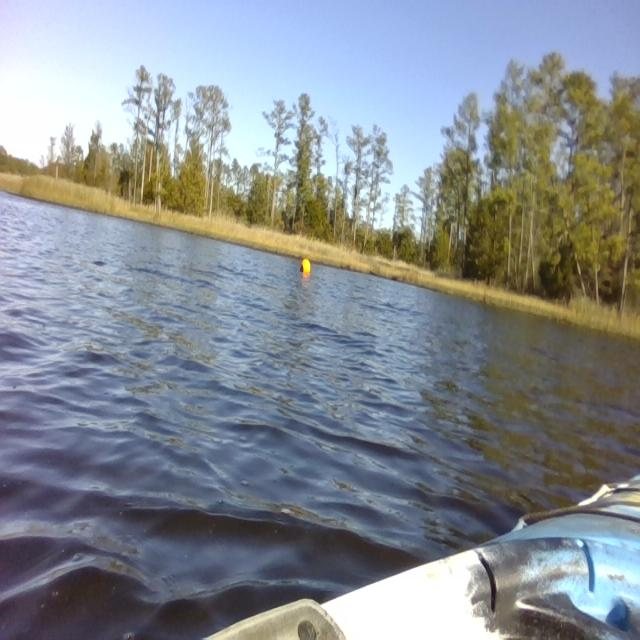Buoy: (298, 257, 312, 276)
